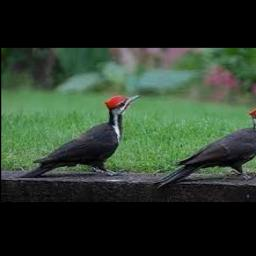Woodpecker: (20, 94, 141, 177), (154, 106, 256, 187)
